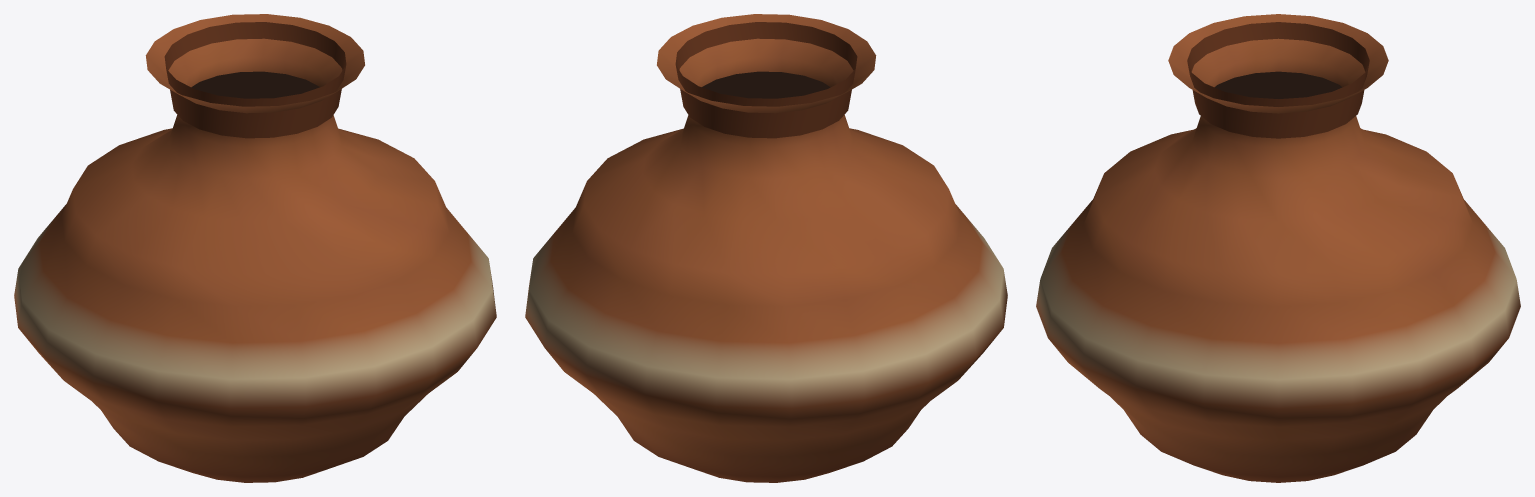
The model's file is vase-a.glb.
3 views of the same model, side by side, from view 1: azimuth 30°, elevation 25°; view 2: azimuth 150°, elevation 25°; view 3: azimuth 270°, elevation 25° (orthographic).
Visible parts, largest first — view 1: vase-a; view 2: vase-a; view 3: vase-a.
Boxes of the visible parts, left/top/right/bottom form: vase-a: left=14, top=14, right=496, bottom=482; vase-a: left=525, top=14, right=1007, bottom=482; vase-a: left=1036, top=14, right=1520, bottom=482.
Bounding box in the file's own units: 0.3079 × 0.268 × 0.3079.
